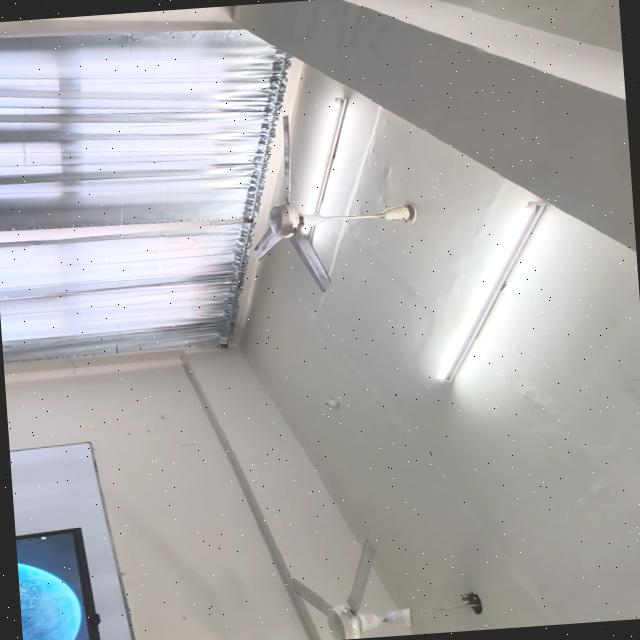Digital board: (14, 528, 98, 640)
Light: (435, 200, 545, 382), (300, 97, 348, 214)
